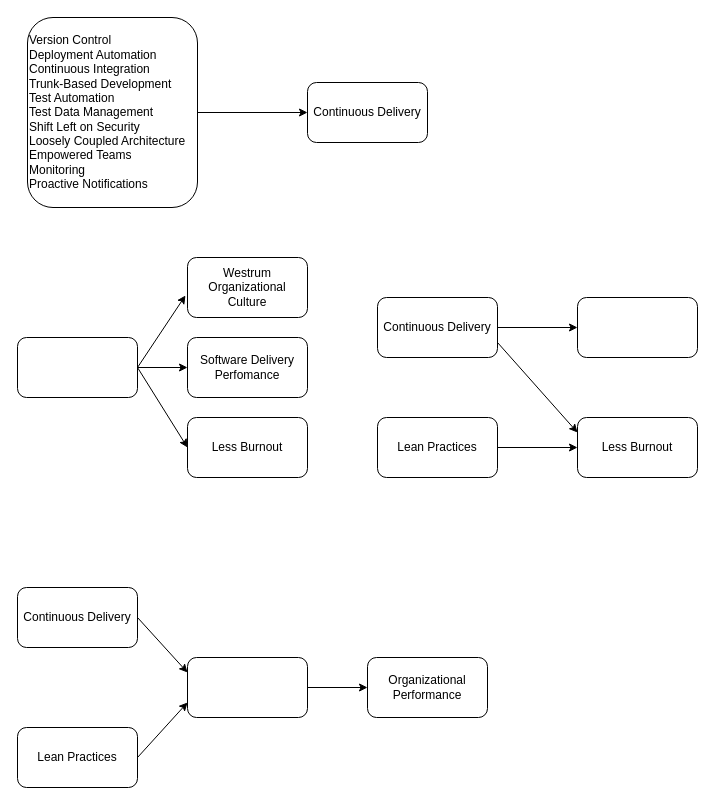
Some shapes in this 715 by 805 pixel diagram are drawn without their labels. The centre of each missing label's shape, as x and y in pixels:
"Identity" goes at (x=247, y=687).
"Lean Management" goes at (x=77, y=367).
"Less Deployment Pain" goes at (x=637, y=327).
